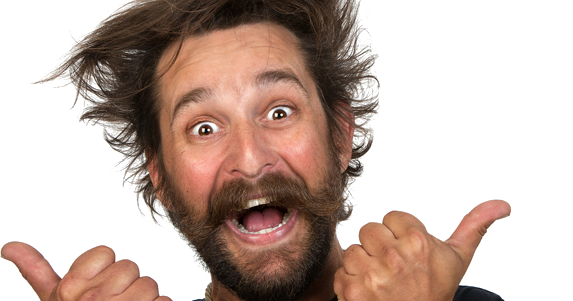human: (1, 1, 522, 301)
